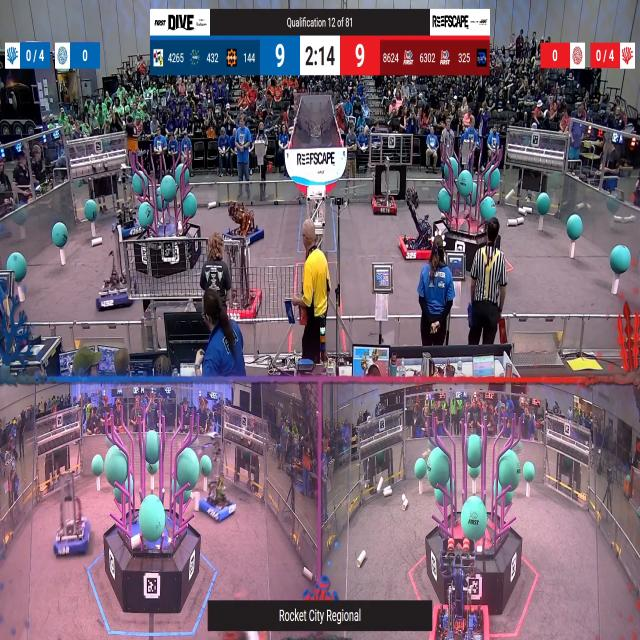scoreboard: (150, 37, 490, 73)
